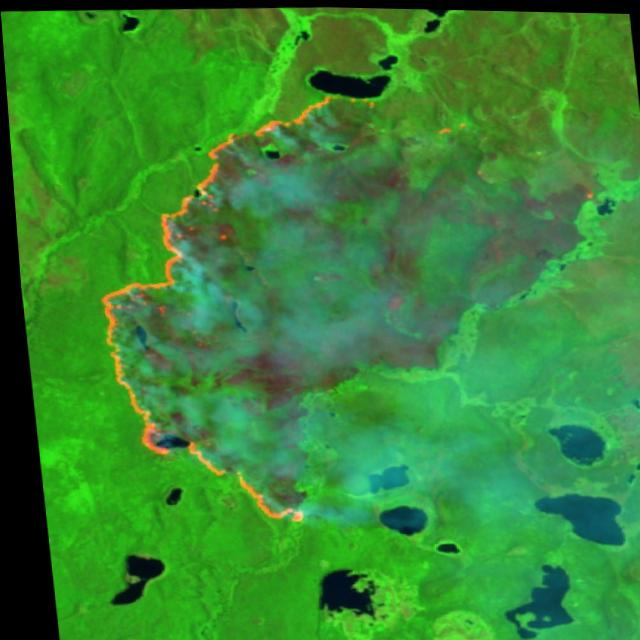fire: (73, 90, 412, 532)
